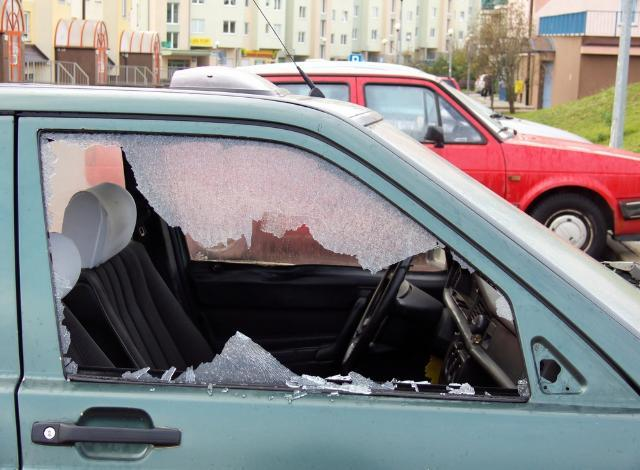glass shatter: (38, 132, 531, 398)
no part: (531, 337, 589, 396)
